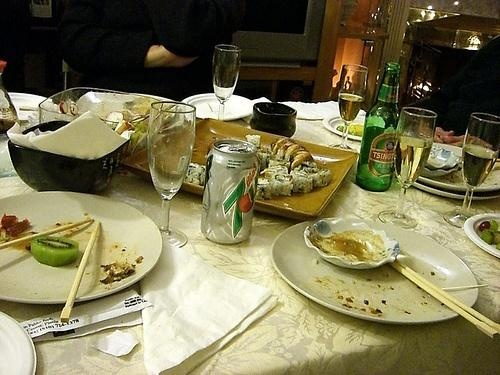bottle: (355, 61, 404, 194)
diningtable: (1, 95, 500, 375)
